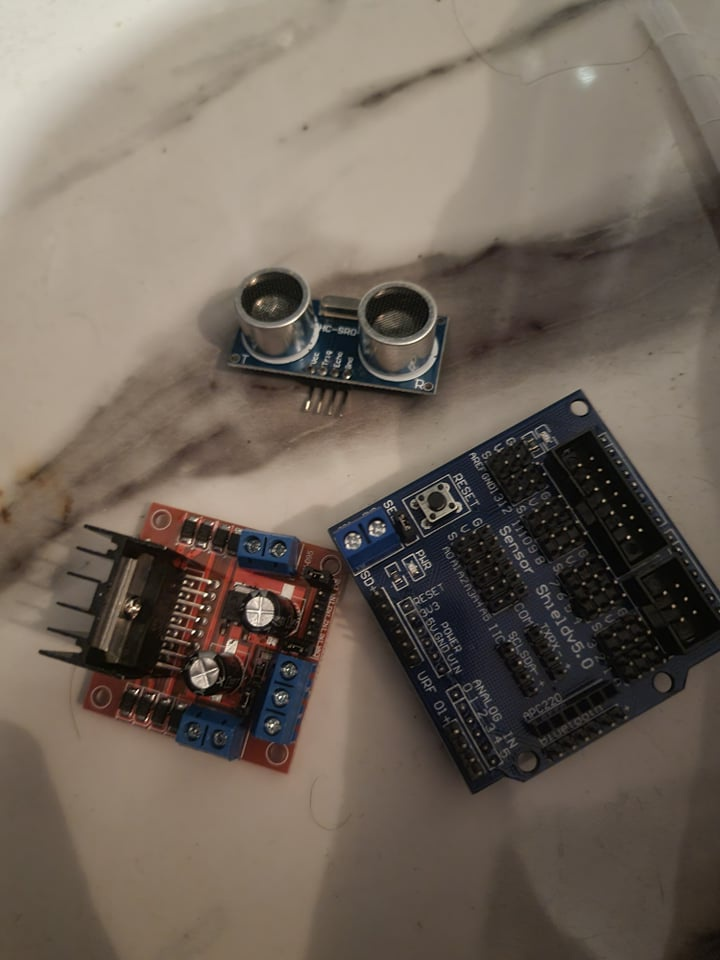5V EXPANSION: (326, 390, 718, 796)
MOTOR: (41, 501, 348, 775)
SENSOR: (222, 265, 449, 410)
